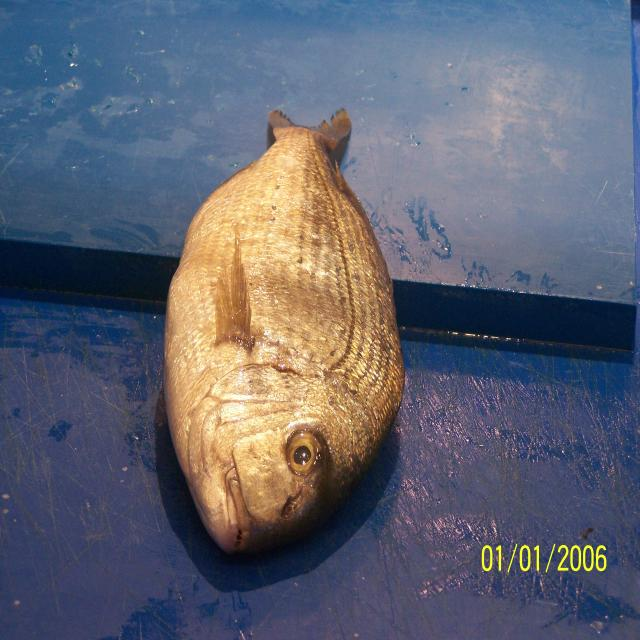Red-Sea-Bream-mercan-: (163, 111, 405, 560)
